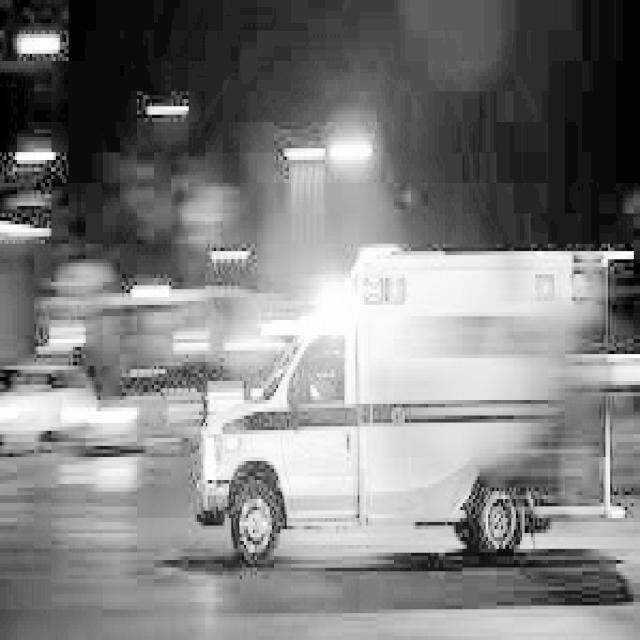Ambulance: (258, 242, 491, 398)
